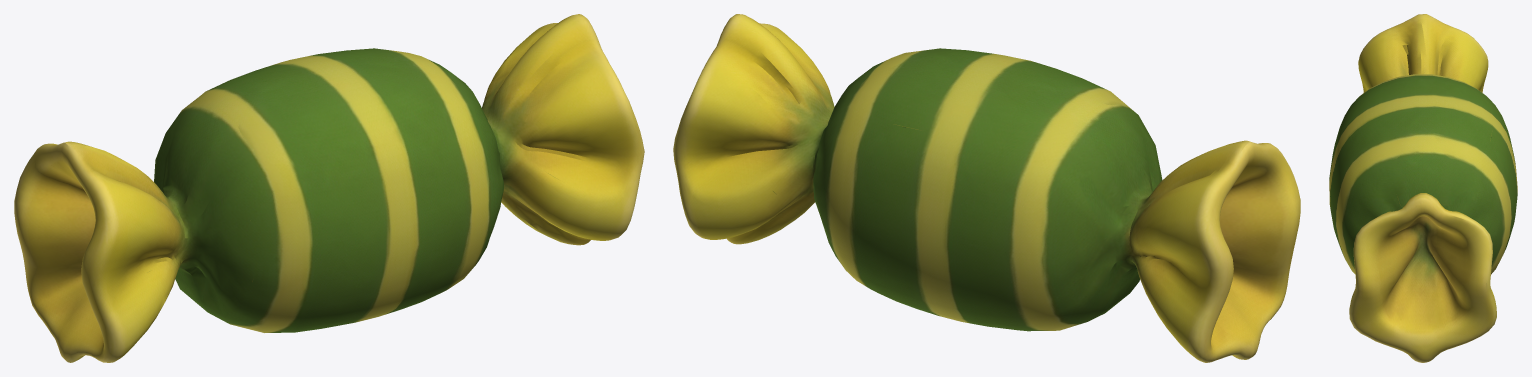
The model's file is good_candy.glb.
The picture shows the model from 3 angles, left to right: view 1: azimuth 30°, elevation 25°; view 2: azimuth 150°, elevation 25°; view 3: azimuth 270°, elevation 25°; orthographic projection. The views are drawn at different scales.
Visible parts, largest first — view 1: Mesh_0; view 2: Mesh_0; view 3: Mesh_0.
Boxes of the visible parts, bbox=[...] form: Mesh_0: bbox=[14, 14, 644, 362]; Mesh_0: bbox=[673, 14, 1300, 362]; Mesh_0: bbox=[1329, 14, 1517, 362].
Bounding box in the file's own units: 0.25 × 0.1039 × 0.1005.
Materials: 1 (1 with a texture image).
